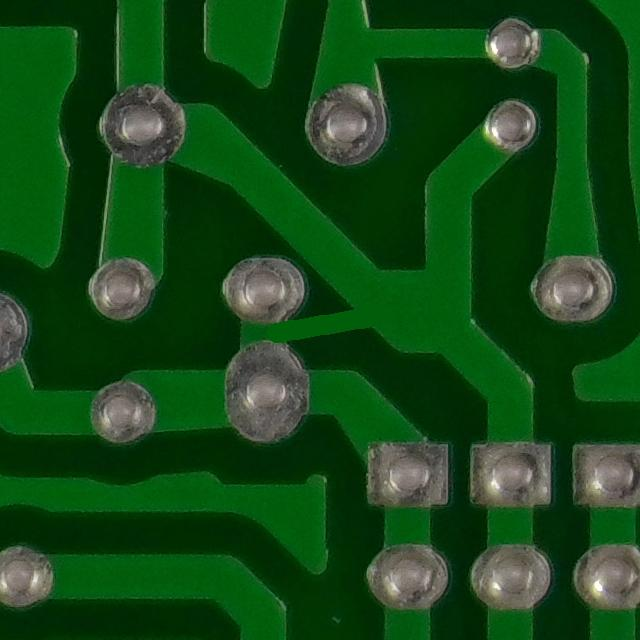short: (218, 243, 423, 398)
